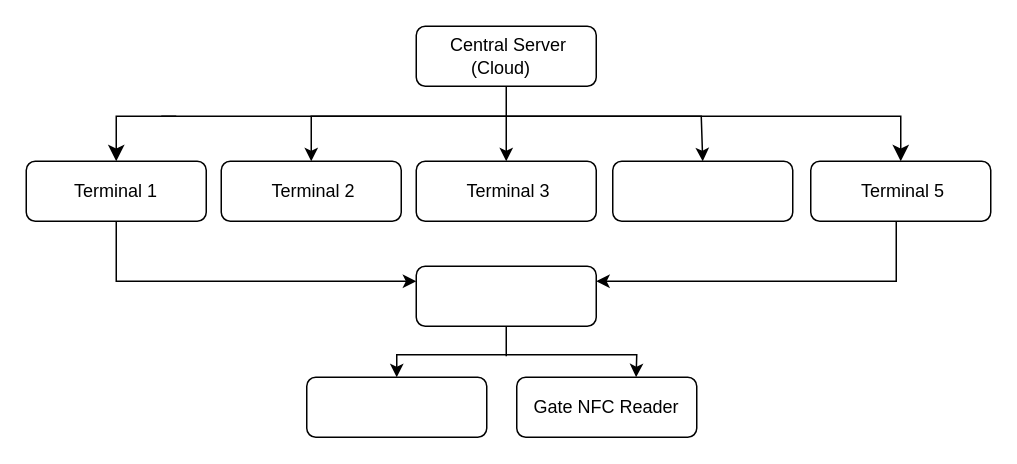
This 1017x464 diagram has some shape labels left out. Here are the shapes that lost their labels. From the top down, the box of each, then its label:
(611, 160, 793, 221): Terminal 4
(415, 265, 596, 326): Gate System
(305, 376, 487, 437): Prepaid Smart Card
